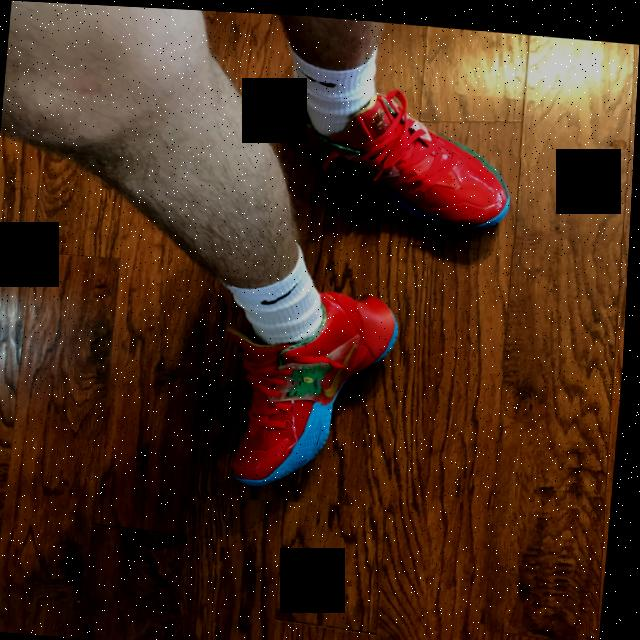shoe: (255, 73, 536, 254), (195, 272, 410, 508)
